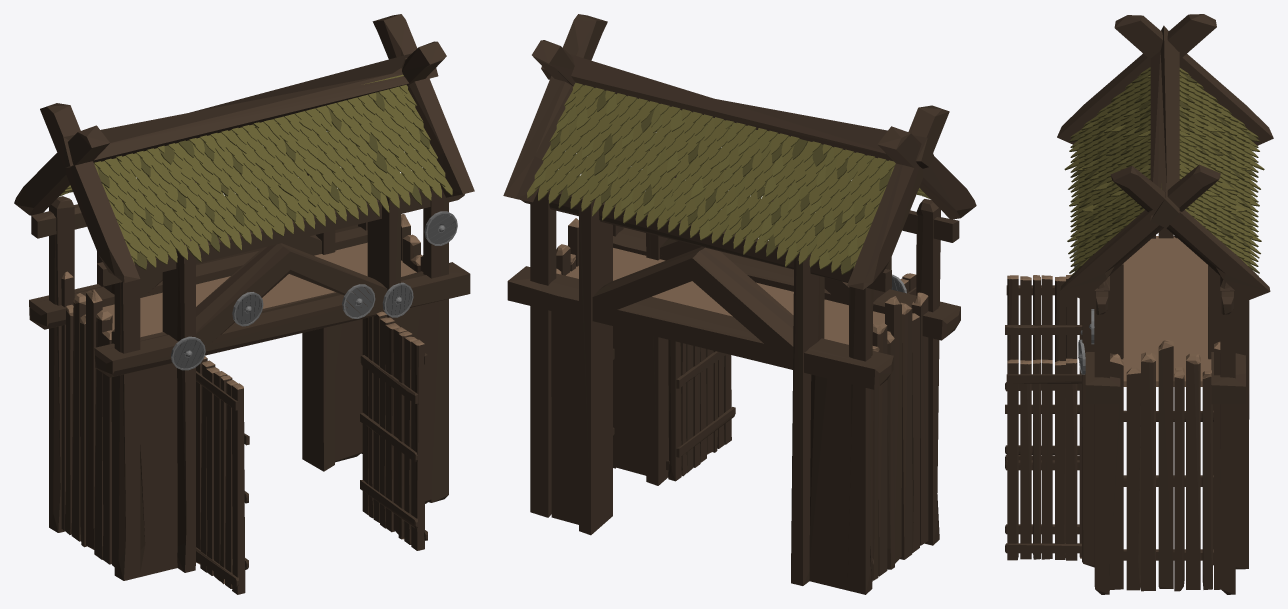
Rendered from SM_gatehouse_norse_open.fbx.
3 renders of one model, left to right at view 1: azimuth 30°, elevation 25°; view 2: azimuth 150°, elevation 25°; view 3: azimuth 270°, elevation 25°, orthographic. The views are drawn at different scales.
Parts seen in each view (by area): view 1: Object554; view 2: Object554; view 3: Object554.
Boxes of the visible parts, x1,y1,x2,y2 form: Object554: [14, 14, 474, 594]; Object554: [503, 14, 976, 594]; Object554: [1005, 14, 1273, 594].
Bounding box in the file's own units: 422 × 488 × 278.
